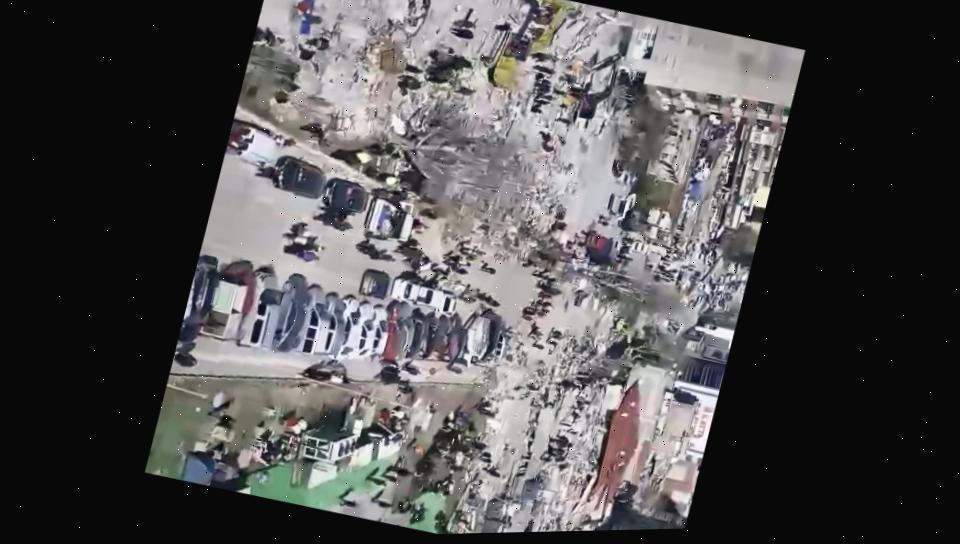kapali: (257, 0, 616, 245)
